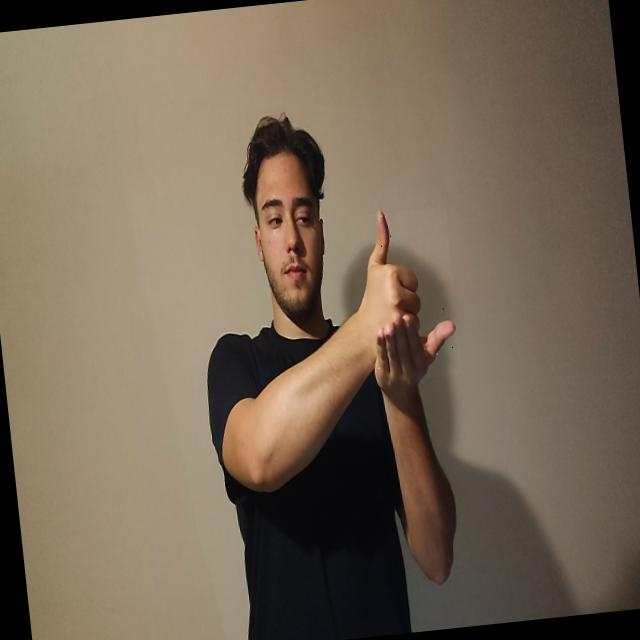help: (348, 206, 463, 384)
